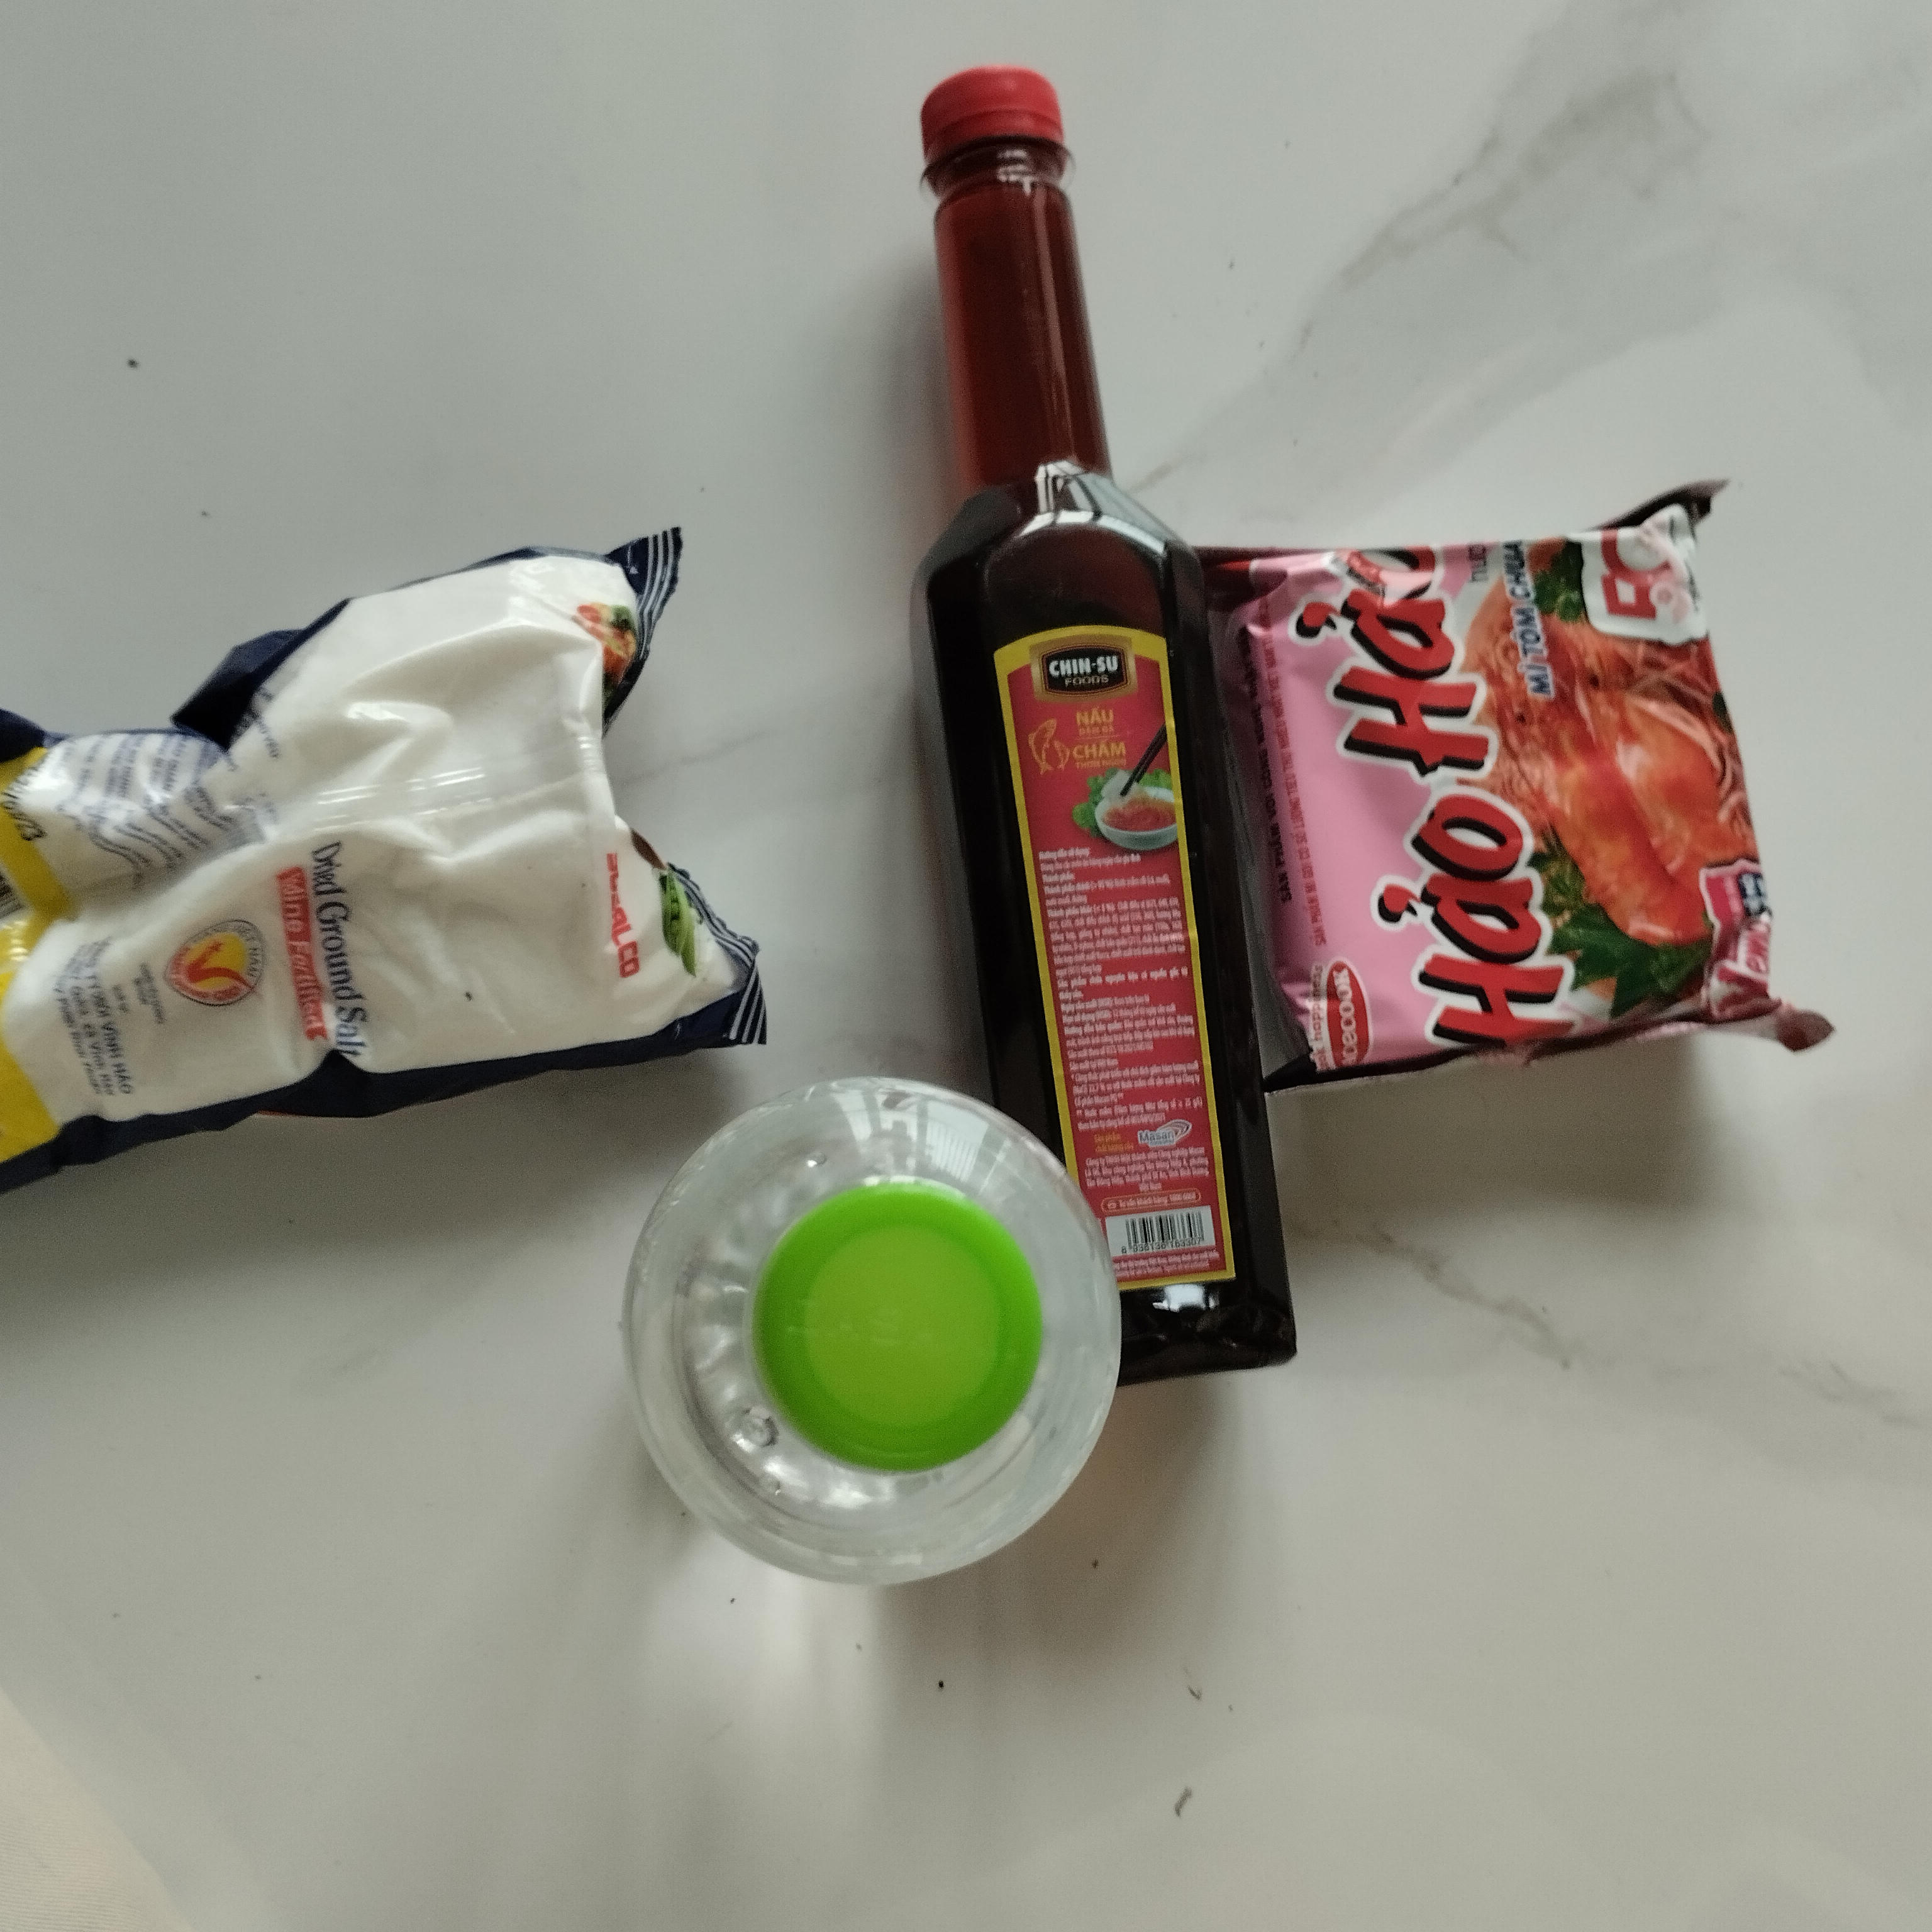Dasani: (616, 1079, 1116, 1598)
Haohao: (1196, 481, 1835, 1131)
Namngu: (893, 58, 1309, 1394)
Salt: (4, 525, 789, 1173)
